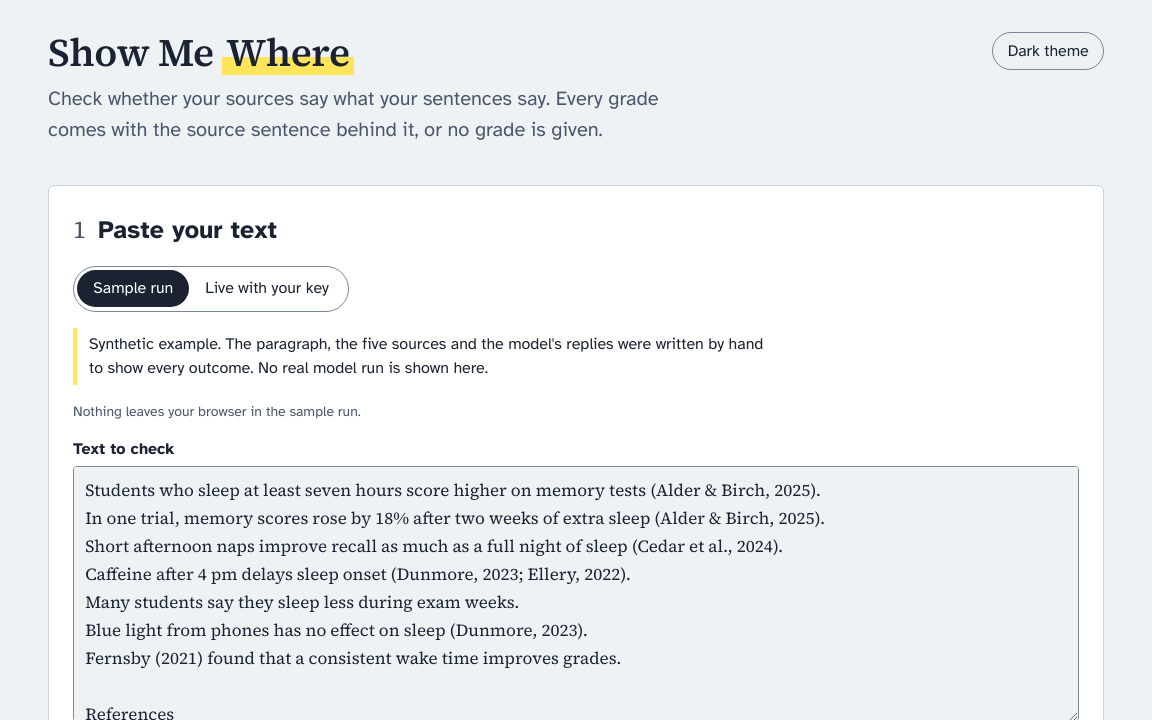
Test case: App › keeps the key only in memory and wipes keys stored by earlier versions
Later steps or results of the test are not shown.
Click the radio button labelled "Live with your key": [267, 288] box [205,278,329,298]
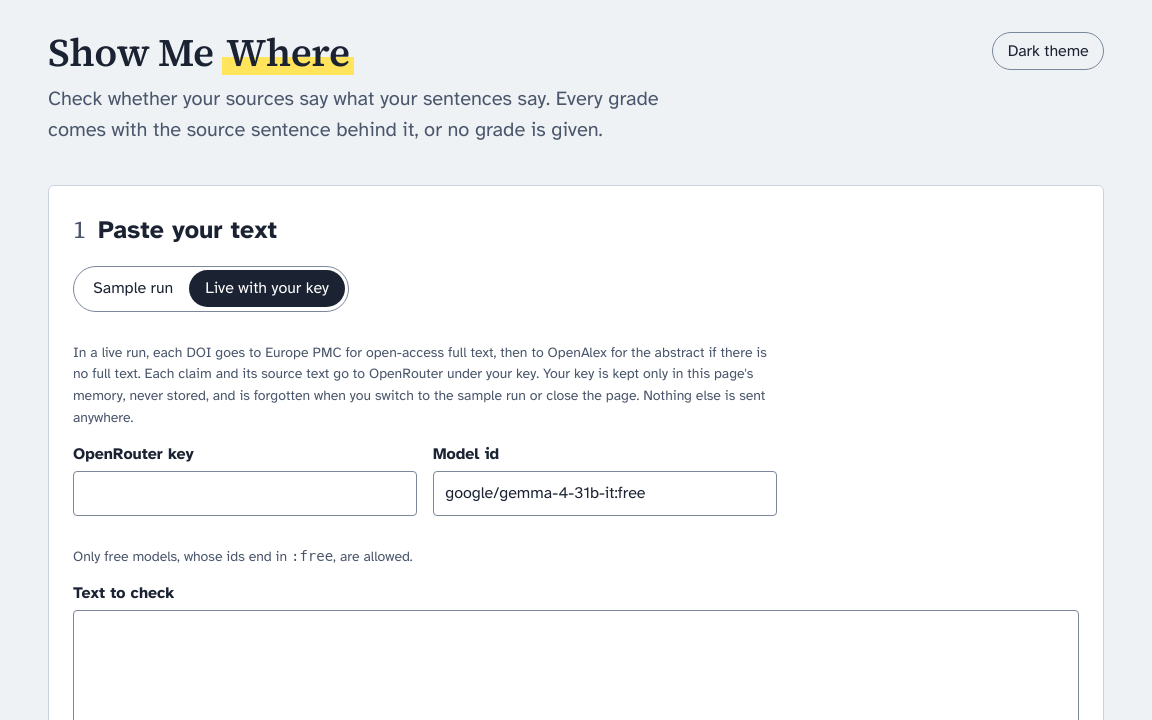
expect the password field labelled "OpenRouter key" is empty: met, box [73,471,417,516]
